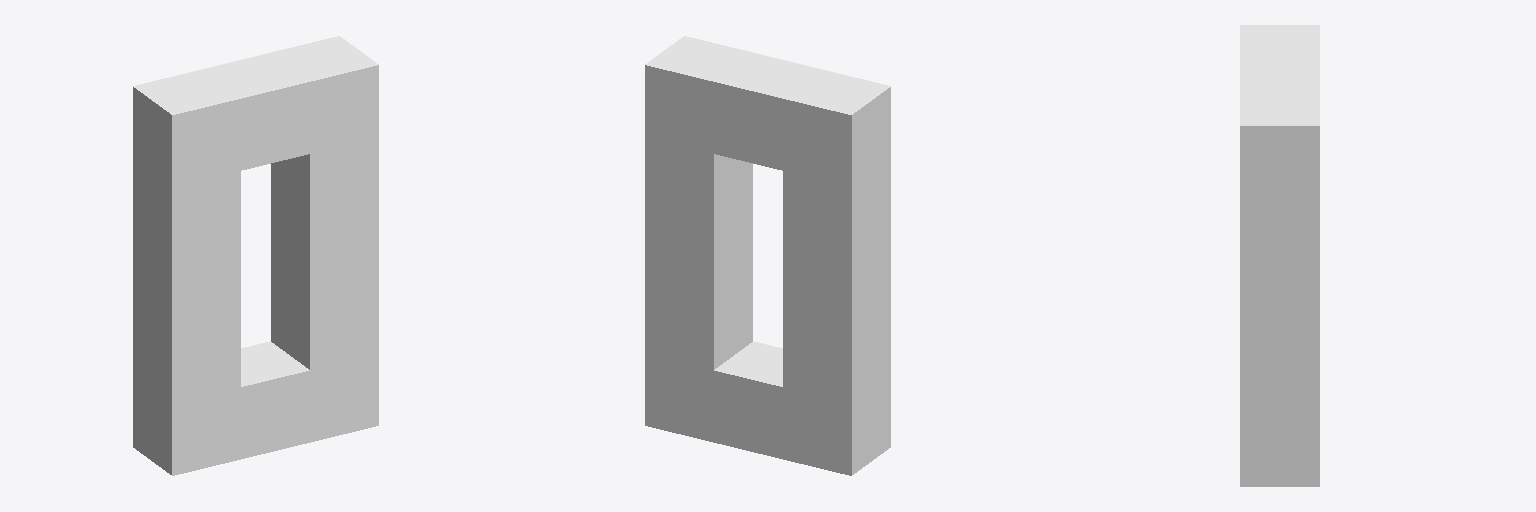
Rendered from digit_0_p.obj.
3 renders of one model, left to right at view 1: azimuth 30°, elevation 25°; view 2: azimuth 150°, elevation 25°; view 3: azimuth 270°, elevation 25°, orthographic.
Parts seen in each view (by area): view 1: object 1; view 2: object 1; view 3: object 1.
Boxes of the visible parts, <box> form: object 1: <box>133,36,378,475</box>; object 1: <box>645,36,890,475</box>; object 1: <box>1240,25,1319,486</box>.
Size of the model in its own units: 0.6 by 1 by 0.2.